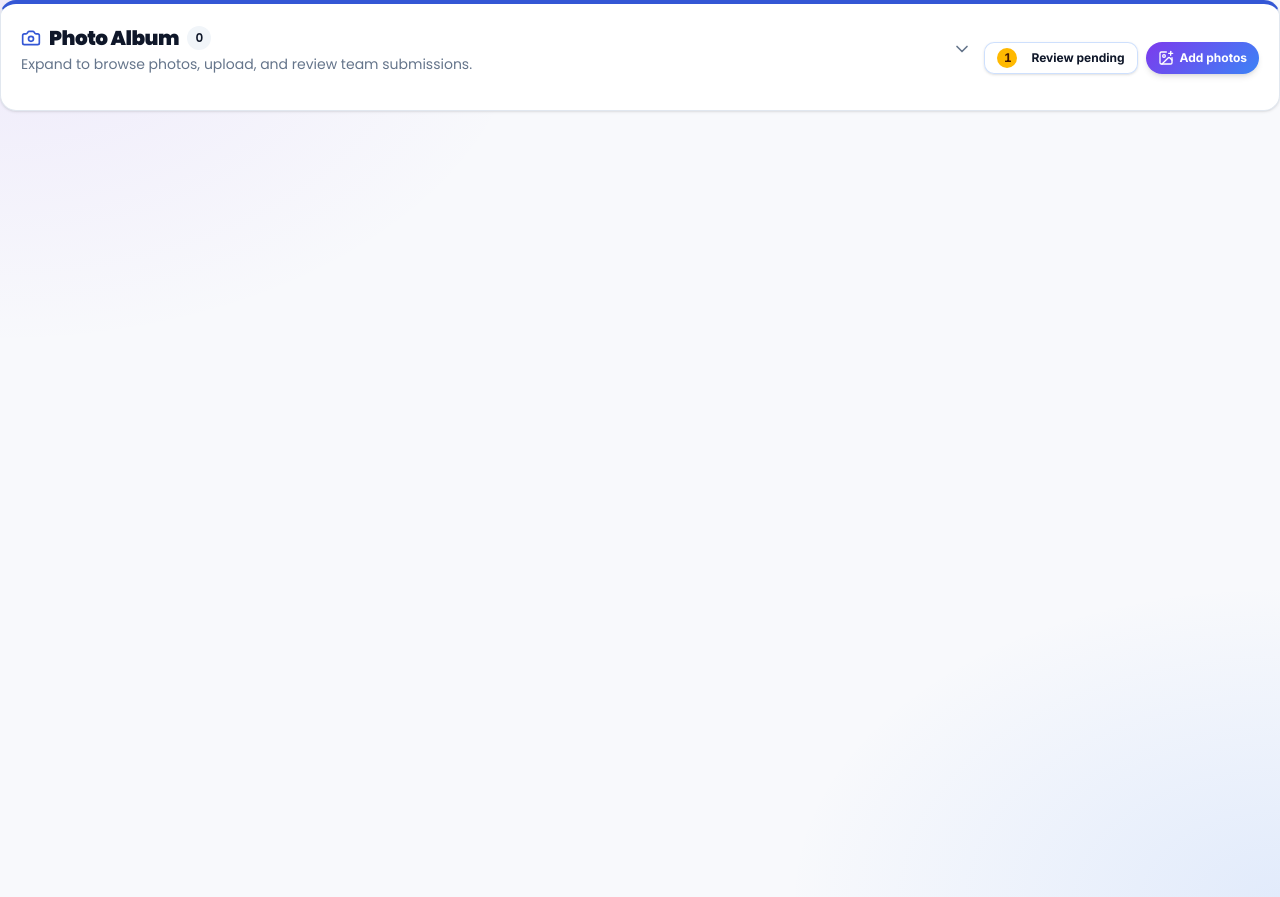
Scenario: competition album collapse and admin explanation › starts collapsed and shows the thorough admin guide only after expansion
The width and height of the screenshot is (1280, 897).
Click the button with test id "button-toggle-competition-album" at (114, 38), box [21, 24, 972, 74]
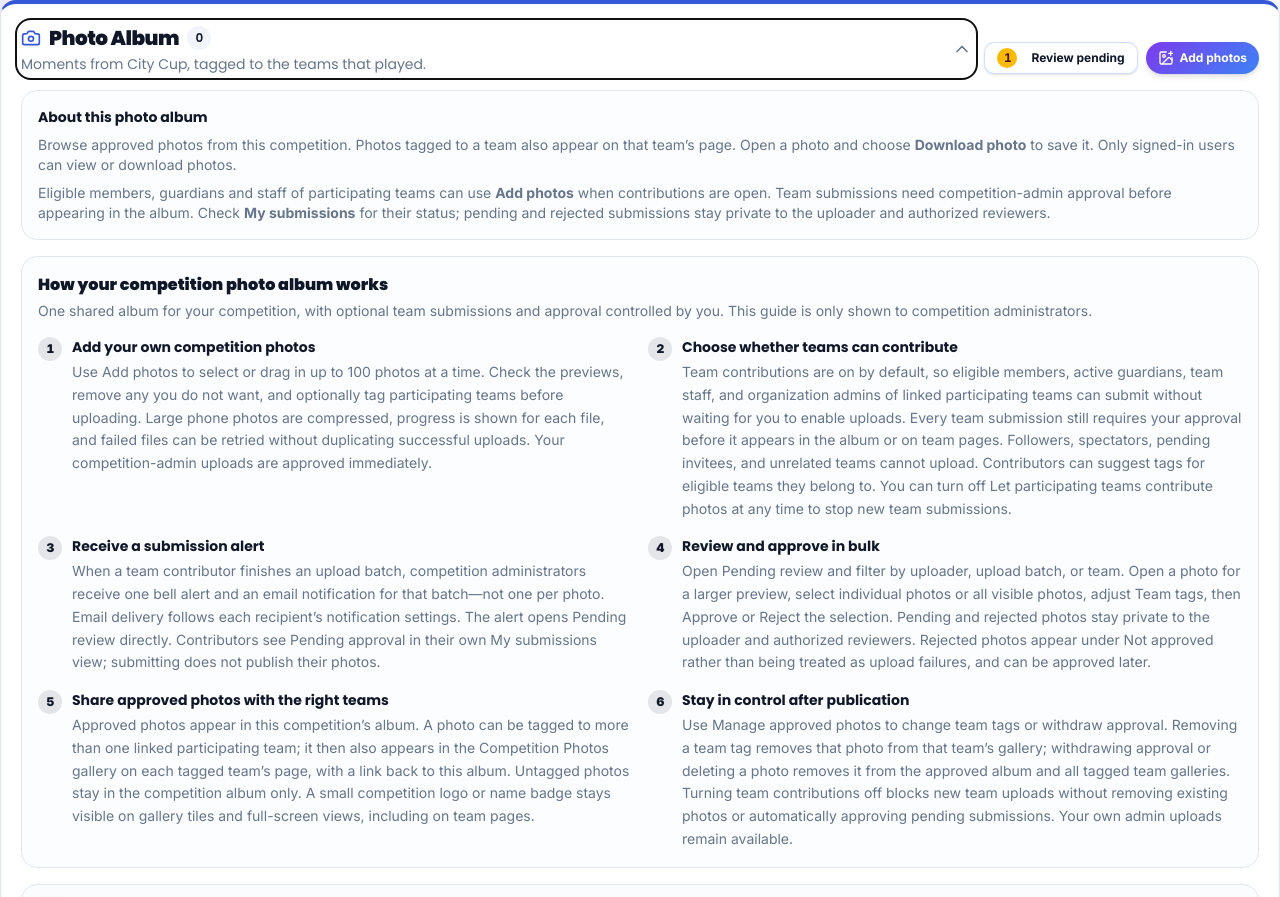
Now the button with test id "button-toggle-competition-album" is expanded
Now the element with test id "guide-competition-photos" is shown
Now the heading "Add your own competition photos" is shown, box [72, 337, 316, 357]
Click the button with test id "button-toggle-competition-album" at (114, 38), box [21, 24, 972, 74]
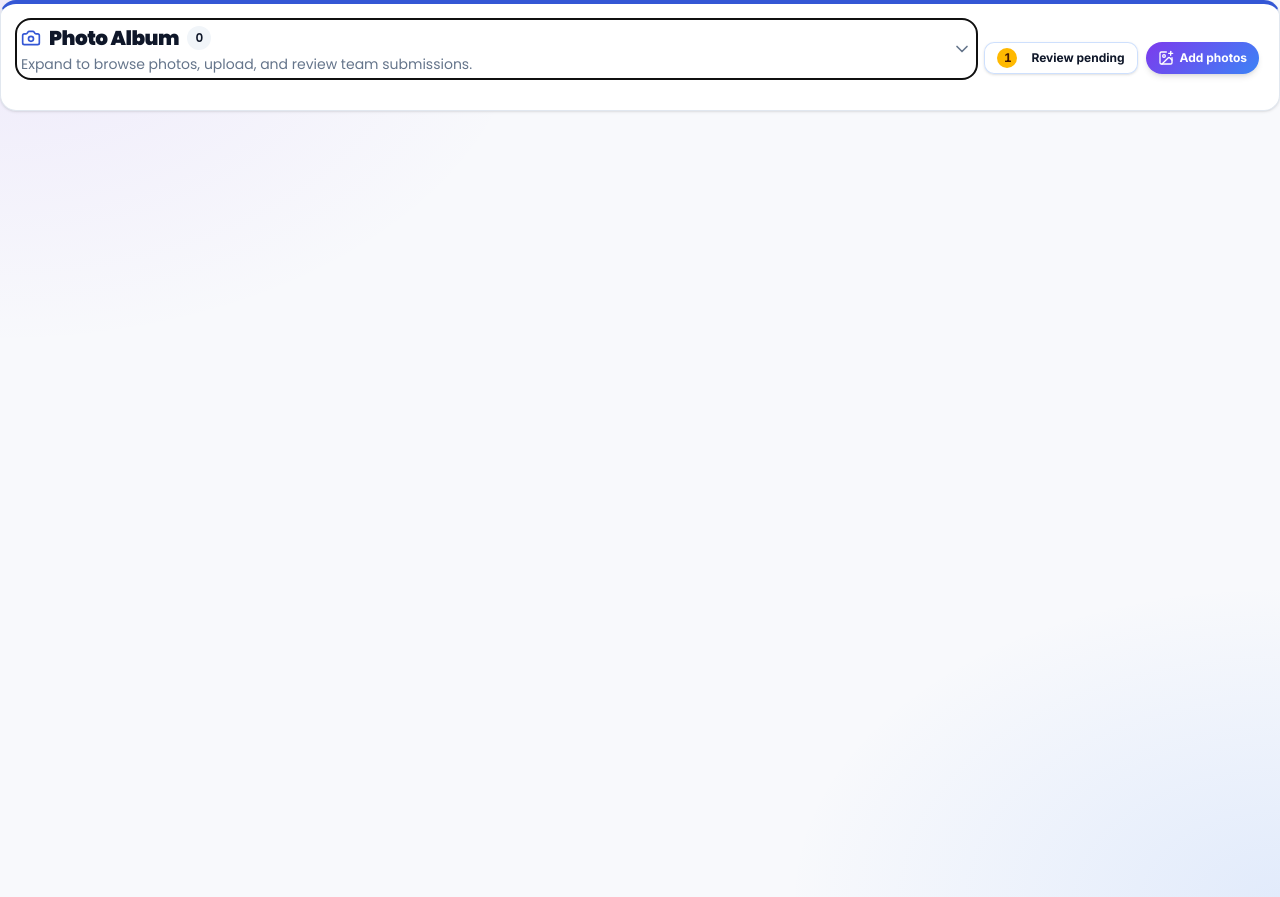
Now the button with test id "button-toggle-competition-album" is collapsed, box [21, 24, 972, 74]
Now the element with test id "guide-competition-photos" is gone
